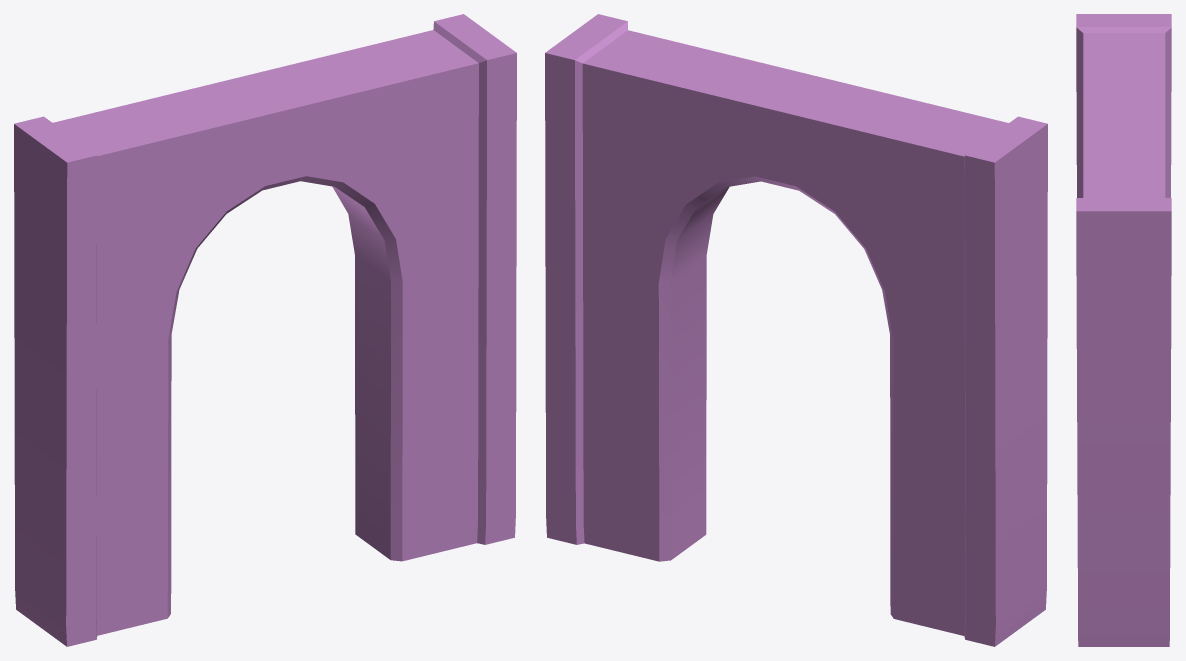
File: Arc_B.fbx
3 renders of one model, left to right at view 1: azimuth 30°, elevation 25°; view 2: azimuth 150°, elevation 25°; view 3: azimuth 270°, elevation 25°, orthographic. The views are drawn at different scales.
Parts seen in each view (by area): view 1: Arc_B; view 2: Arc_B; view 3: Arc_B.
Part boxes in pixels (x1=…): Arc_B: x1=14, y1=14, x2=516, y2=646; Arc_B: x1=545, y1=14, x2=1047, y2=646; Arc_B: x1=1076, y1=14, x2=1171, y2=646.
Size of the model in its own units: 899 by 927 by 184.
